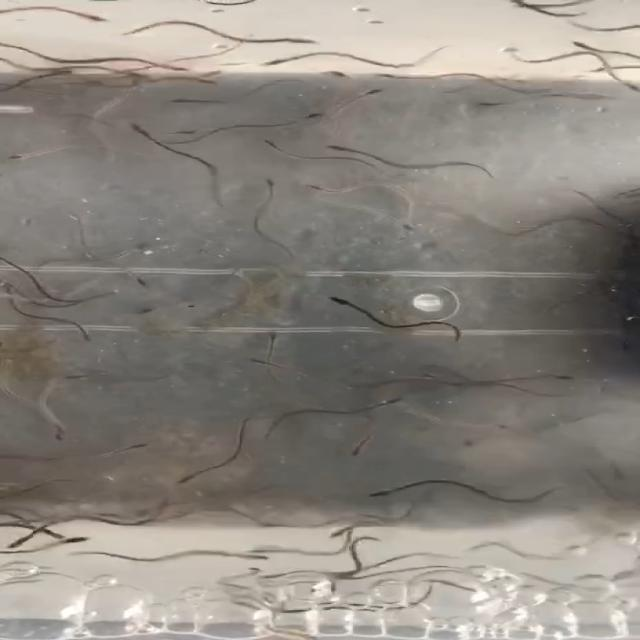active_glass_eel: (226, 347, 292, 370), (106, 113, 158, 138), (340, 440, 392, 465), (36, 417, 78, 441), (540, 367, 590, 387), (115, 439, 163, 457), (371, 394, 424, 410), (40, 66, 82, 86), (361, 63, 405, 82), (300, 178, 344, 197), (74, 323, 106, 348), (1, 147, 45, 165), (165, 92, 199, 115), (365, 482, 400, 504), (348, 84, 396, 100), (272, 34, 320, 50), (311, 523, 361, 538), (471, 98, 515, 115), (165, 468, 203, 487), (247, 173, 287, 191), (121, 275, 157, 294), (196, 66, 226, 88), (384, 214, 415, 235), (321, 288, 352, 308), (559, 34, 593, 52), (118, 238, 153, 254), (256, 324, 284, 344), (262, 56, 296, 72), (251, 136, 283, 153), (164, 62, 195, 77), (240, 549, 271, 564), (326, 138, 357, 152), (291, 107, 326, 119), (325, 68, 356, 80), (58, 536, 91, 546), (81, 11, 111, 21)
